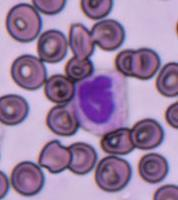N: (71, 69, 128, 136)
